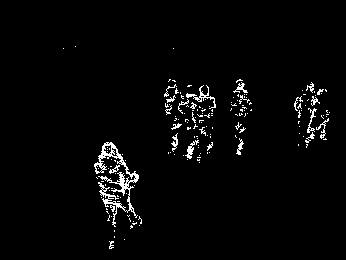person: (95, 140, 142, 248), (231, 75, 254, 157), (163, 78, 184, 153), (295, 80, 314, 157), (196, 82, 215, 155), (310, 86, 331, 150), (182, 82, 199, 160)
